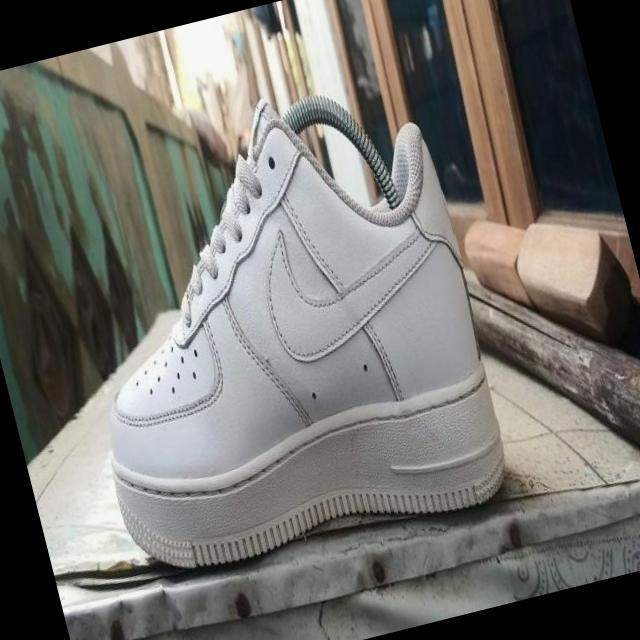nike_original_airforce: (24, 61, 515, 583)
